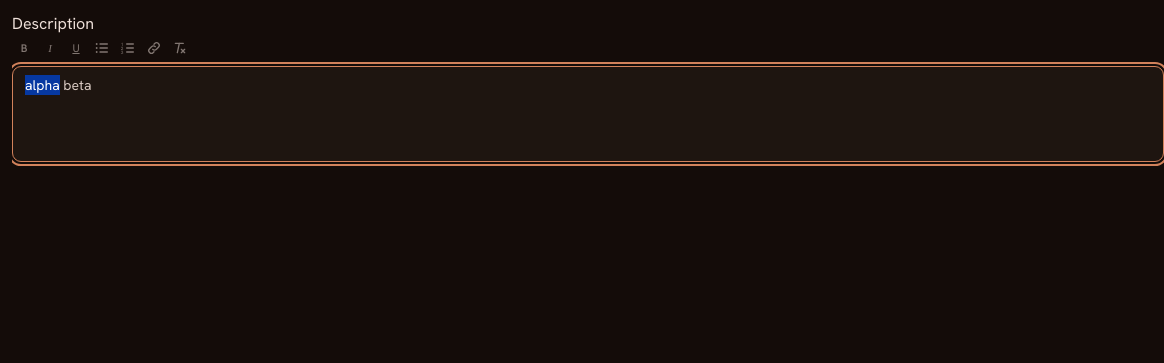
Test case: DescriptionEditor's link panel › the_panel_opened_again_reads_the_new_selection
Click the button named "Link": (154,48) [142, 36, 166, 60]
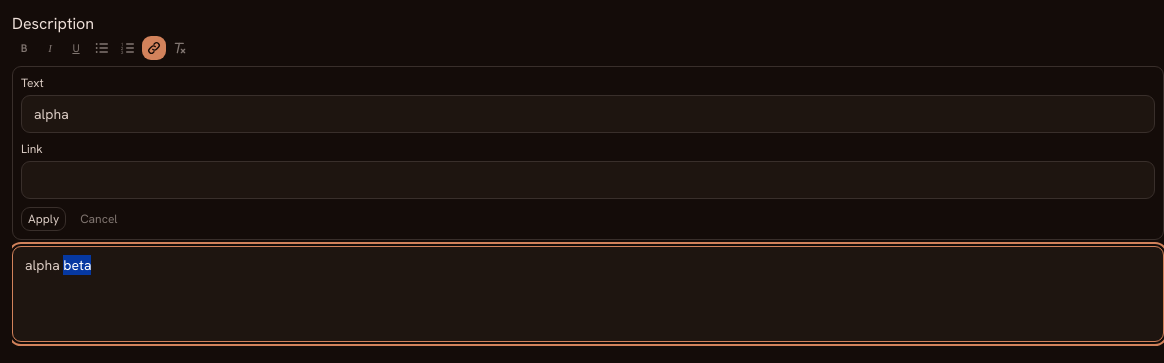
expect the field labelled "Text" holds "alpha": met, box [21, 95, 1155, 133]
Press k in the field named "Description", box [12, 246, 1163, 342]
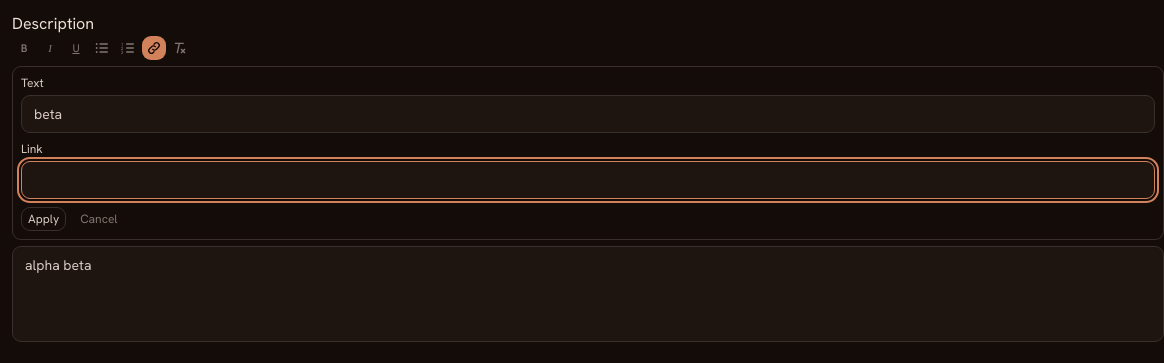
expect the field labelled "Text" holds "beta": met, box [21, 95, 1155, 133]
In the field labelled "Link": (588,180) [21, 161, 1155, 199], type "example.com"
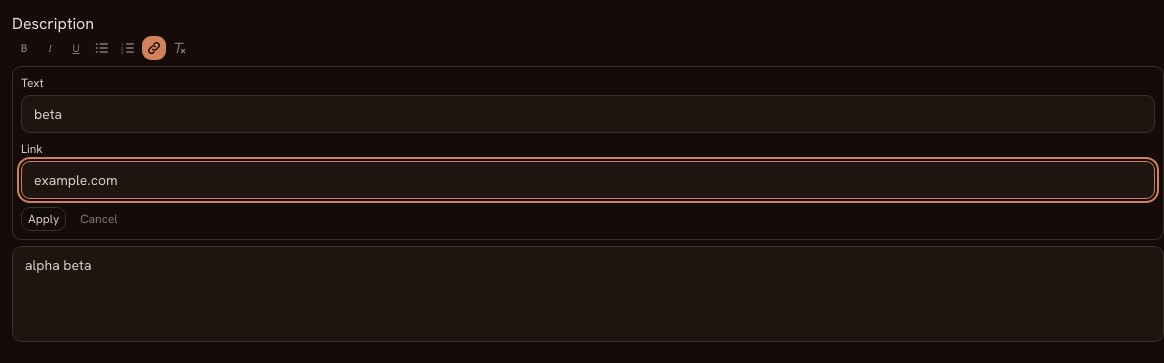
Click the button "Apply": (44,219) [21, 207, 66, 231]
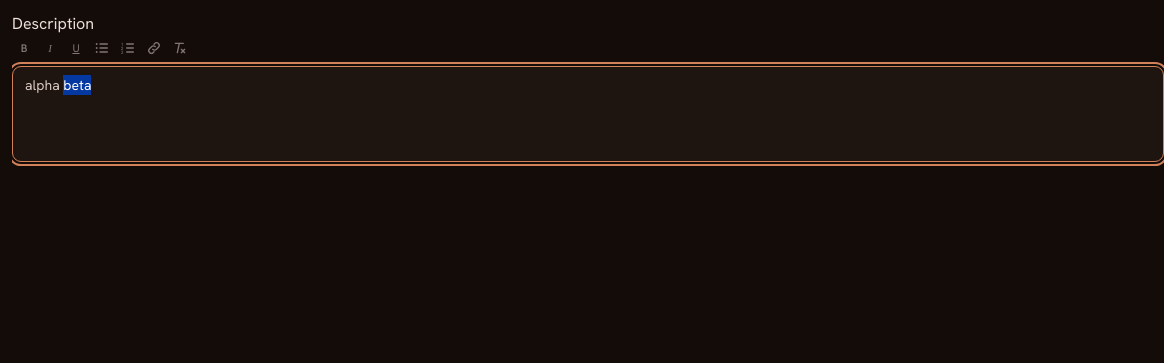
// The button closes an open panel.
Click the button named "Link": (154,48) [142, 36, 166, 60]
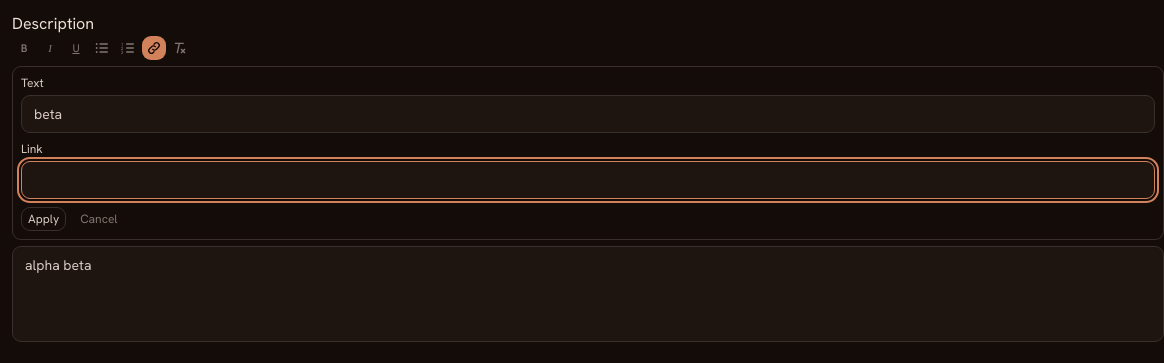
expect the button named "Link" is expanded: met
Click the button named "Link": (154,48) [142, 36, 166, 60]
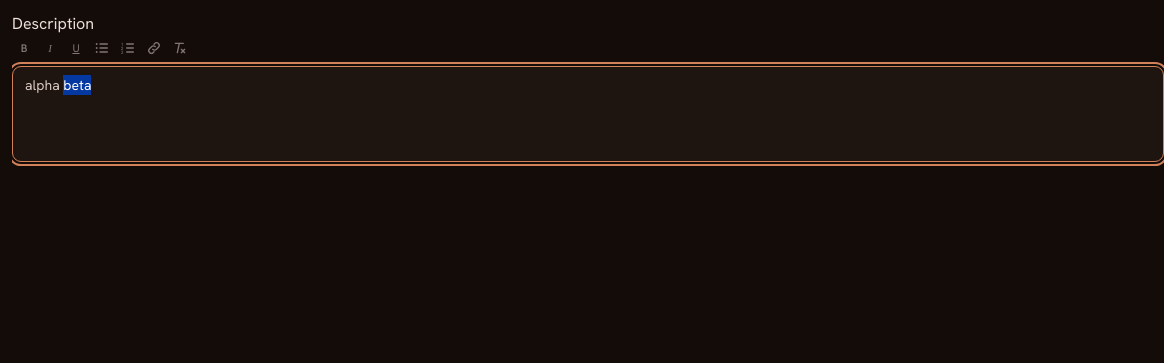
expect the button named "Link" is collapsed: met, box [142, 36, 166, 60]
expect the label "Link" is gone: met
